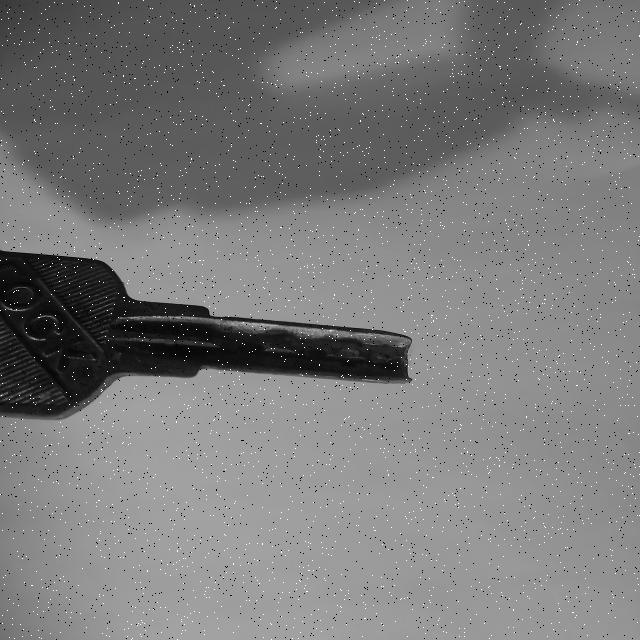key: (0, 251, 411, 419)
